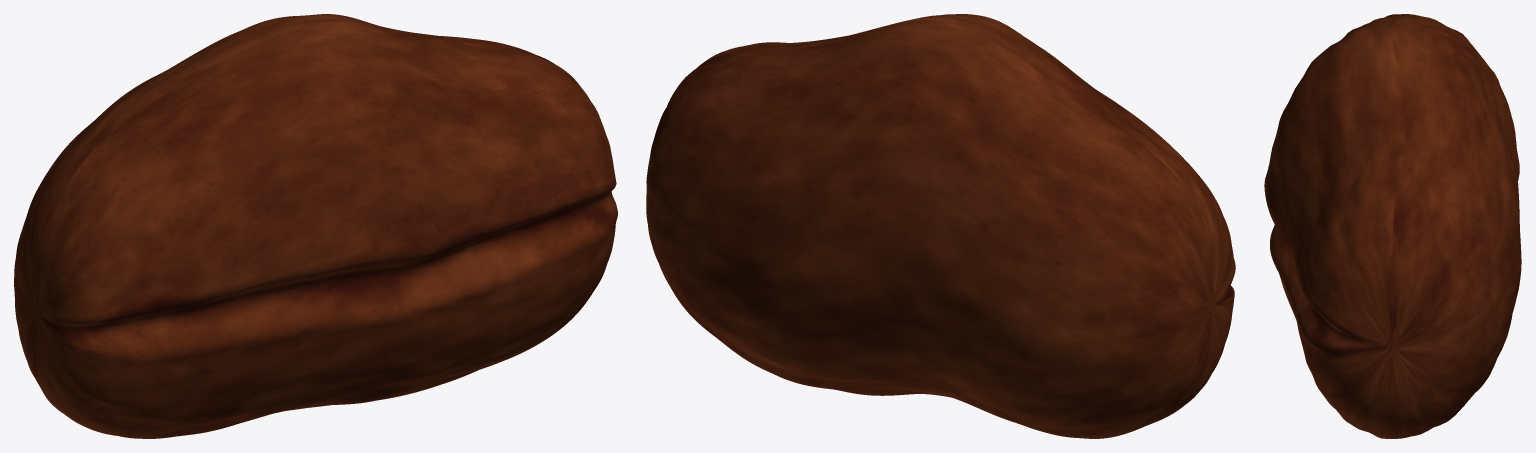
The model's file is liberica.glb.
3 renders of one model, left to right at view 1: azimuth 30°, elevation 25°; view 2: azimuth 150°, elevation 25°; view 3: azimuth 270°, elevation 25°, orthographic. The views are drawn at different scales.
Visible parts, largest first — view 1: Cafe_liberica; view 2: Cafe_liberica; view 3: Cafe_liberica.
Part boxes in pixels (x1=…): Cafe_liberica: x1=14, y1=14, x2=617, y2=438; Cafe_liberica: x1=646, y1=14, x2=1235, y2=438; Cafe_liberica: x1=1264, y1=14, x2=1521, y2=438.
Size of the model in its own units: 0.014 by 0.00933 by 0.00657.
1 material, 1 textured.
